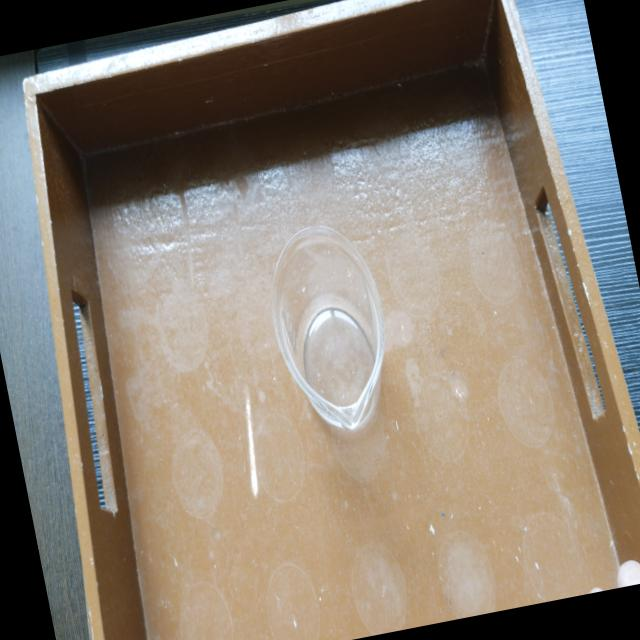beaker: (253, 206, 408, 451)
